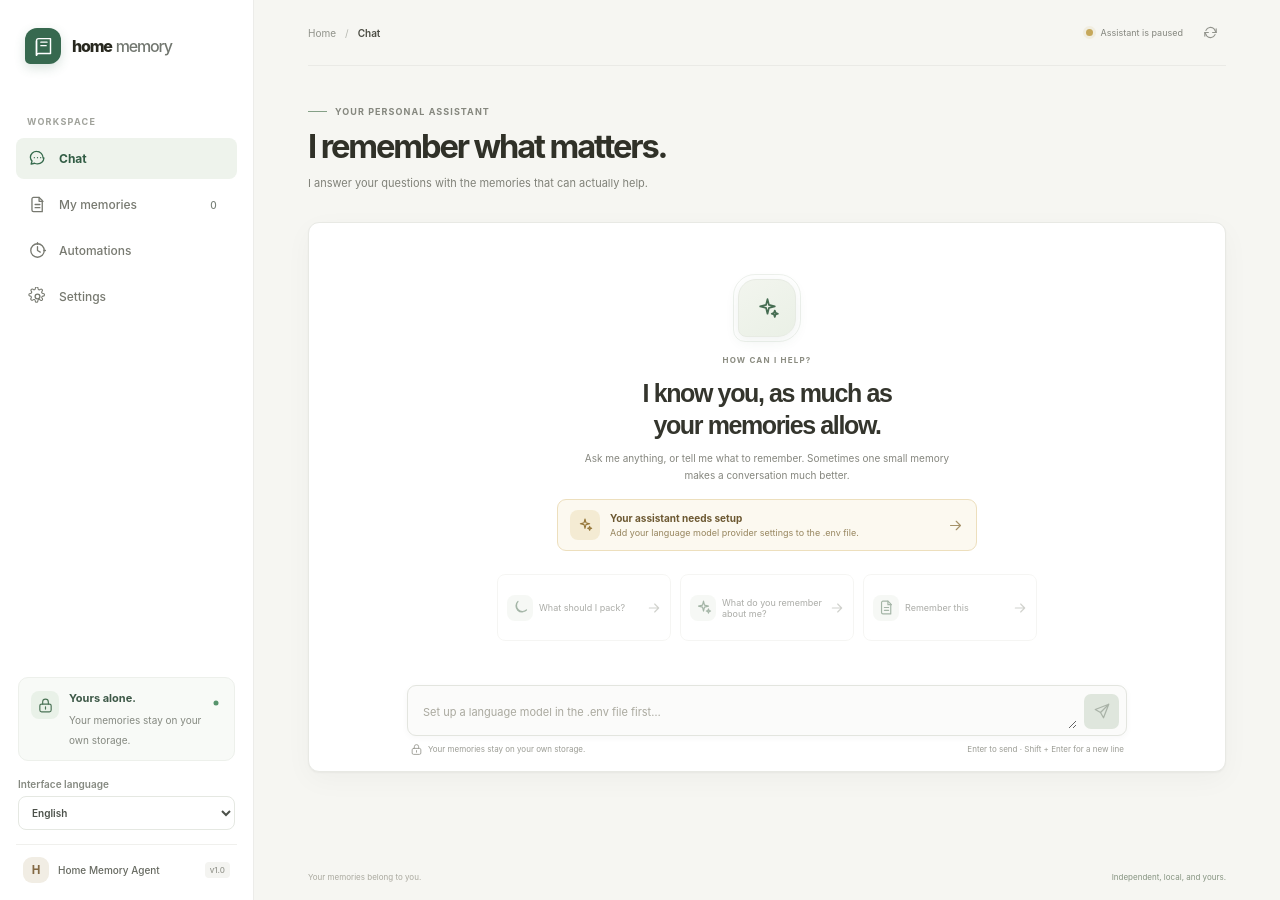
Test: Home Memory web interface › shows each agent operation permission and its data source in settings
The width and height of the screenshot is (1280, 900).
Expected: the heading "I remember what matters." is shown, [308,126,666,166]
Click the button "Settings" at (126, 296), box [16,276,237,317]
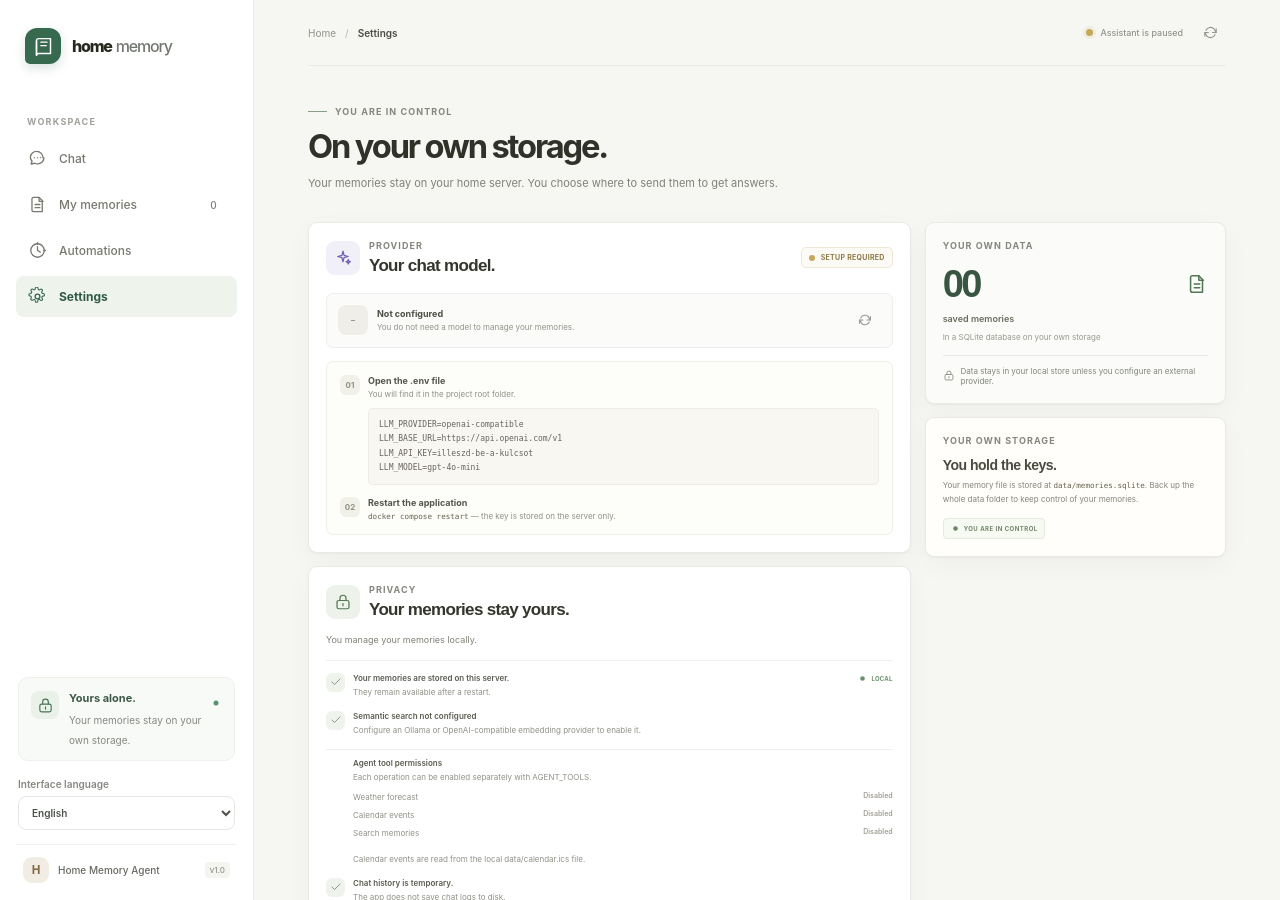
Expected: the text "Agent tool permissions" is shown, [353,758,442,768]
Expected: the text "Weather forecast" is shown, [353,791,418,803]
Expected: the text "Calendar events" is shown, [353,809,414,821]
